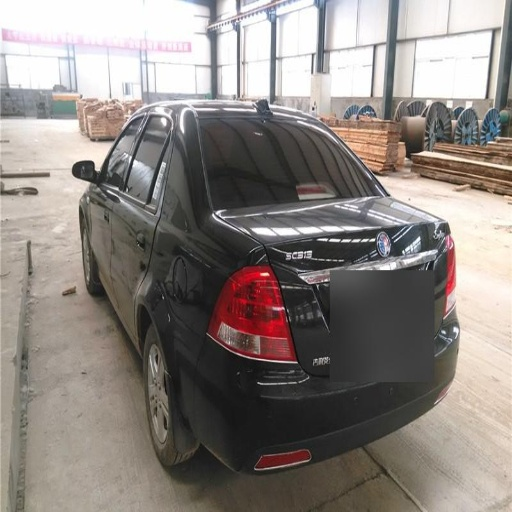back_bumper: (182, 342, 416, 475)
back_left_light: (208, 260, 295, 359)
back_right_door: (107, 113, 145, 186)
tailgate: (215, 192, 443, 375)
trunk: (305, 259, 446, 386)
